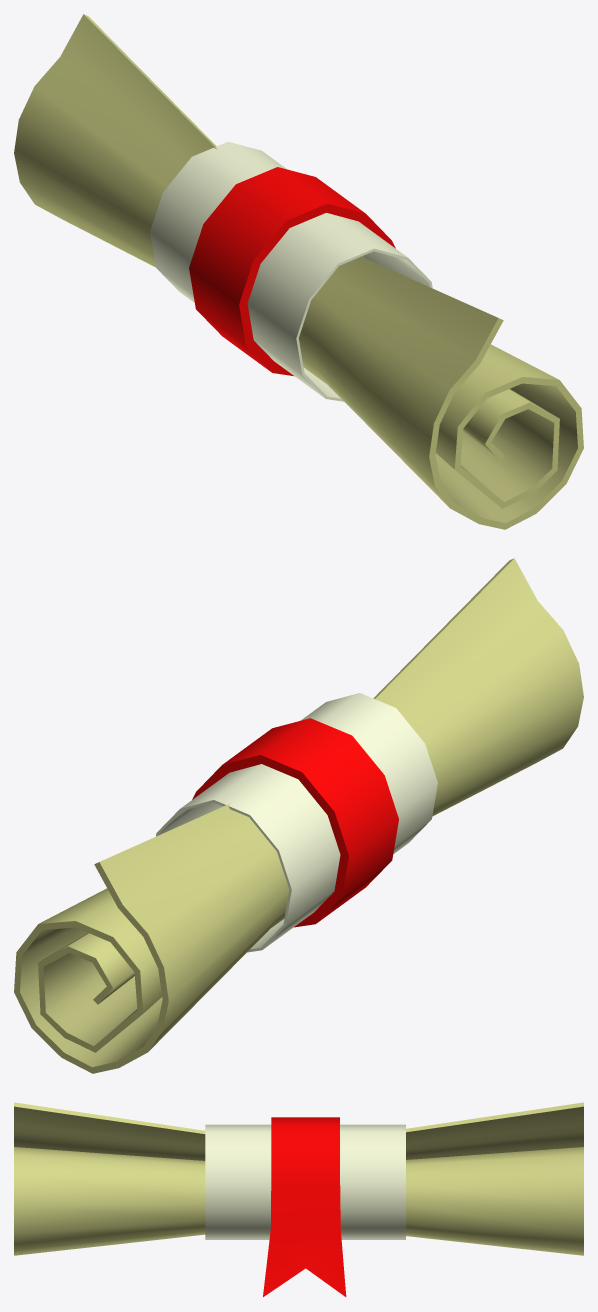
Rendered from Scroll_Red.fbx.
3 views of the same model, one above another, from view 1: azimuth 30°, elevation 25°; view 2: azimuth 150°, elevation 25°; view 3: azimuth 270°, elevation 25° (orthographic). The views are drawn at different scales.
Parts seen in each view (by area): view 1: Scroll_Red; view 2: Scroll_Red; view 3: Scroll_Red.
Part boxes in pixels (<box>): Scroll_Red: <box>14,14,583,529</box>; Scroll_Red: <box>14,558,583,1073</box>; Scroll_Red: <box>14,1102,583,1296</box>.
Size of the model in its own units: 0.25 by 0.2259 by 0.7965.
